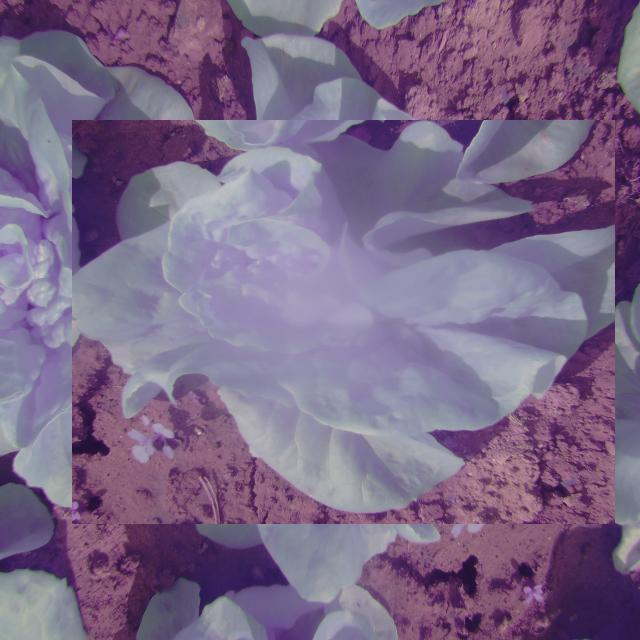vege: (107, 85, 581, 559)
